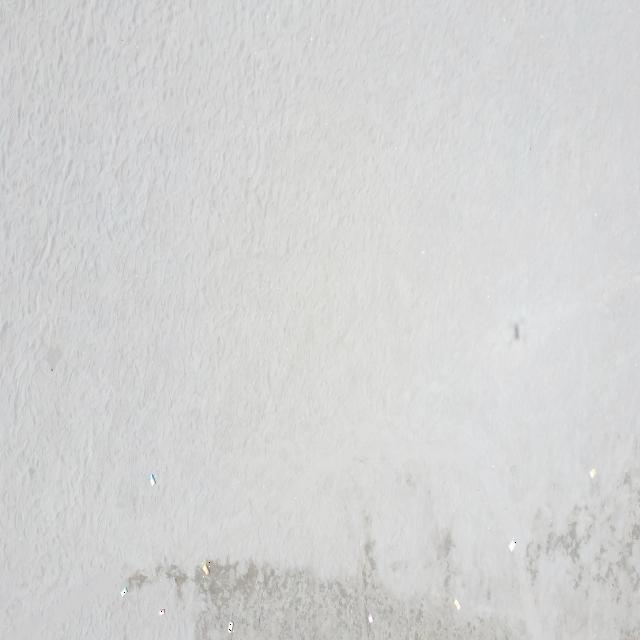retort-pouch: (202, 560, 210, 576), (508, 538, 516, 553), (454, 596, 461, 612), (148, 474, 156, 488), (119, 586, 128, 598), (589, 466, 596, 481), (227, 620, 234, 634), (367, 613, 375, 625), (159, 607, 166, 617)
